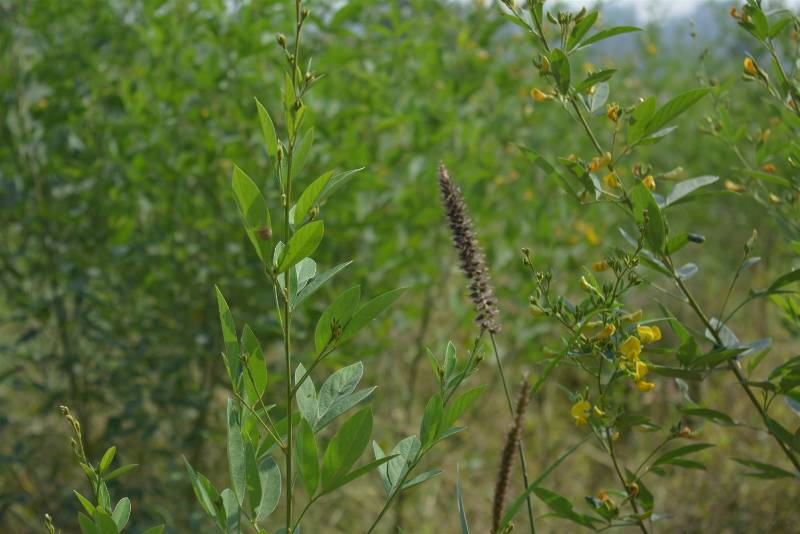plant: (574, 270, 642, 407), (213, 305, 281, 422), (526, 20, 607, 111), (303, 419, 380, 510), (418, 353, 470, 484), (309, 297, 373, 388), (213, 444, 282, 521), (623, 84, 698, 151), (73, 441, 126, 534), (293, 147, 332, 271), (655, 305, 714, 386), (225, 170, 276, 263), (637, 184, 695, 264), (253, 85, 282, 167)
weed: (421, 158, 505, 325), (443, 175, 501, 341), (503, 407, 537, 527)
